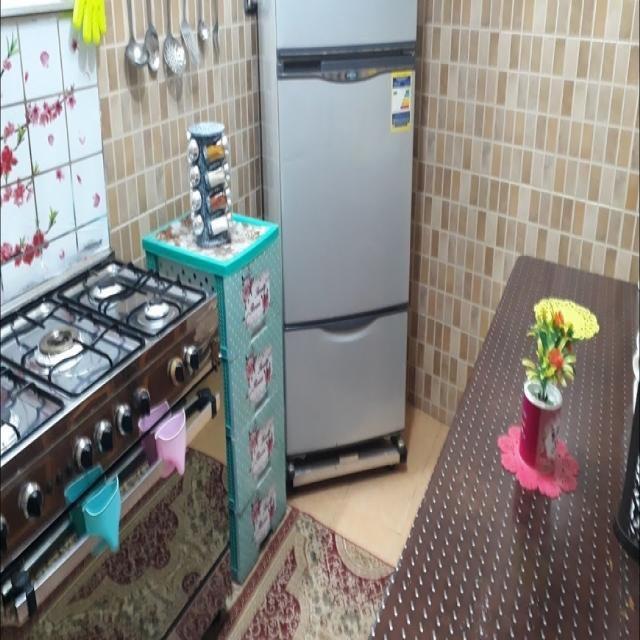oven: (2, 284, 235, 640)
refrigerator: (266, 7, 414, 483)
